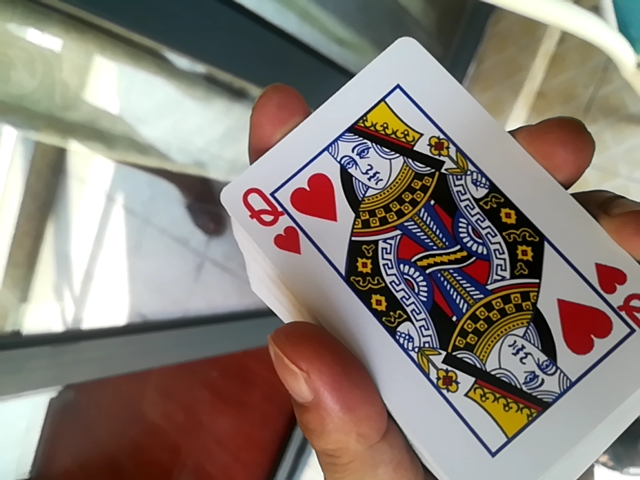hx q: (205, 34, 638, 479)
